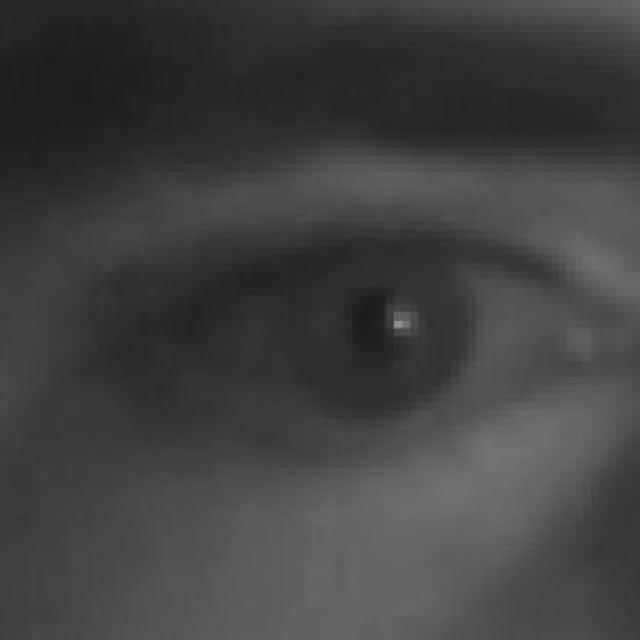awake: (131, 222, 632, 468)
